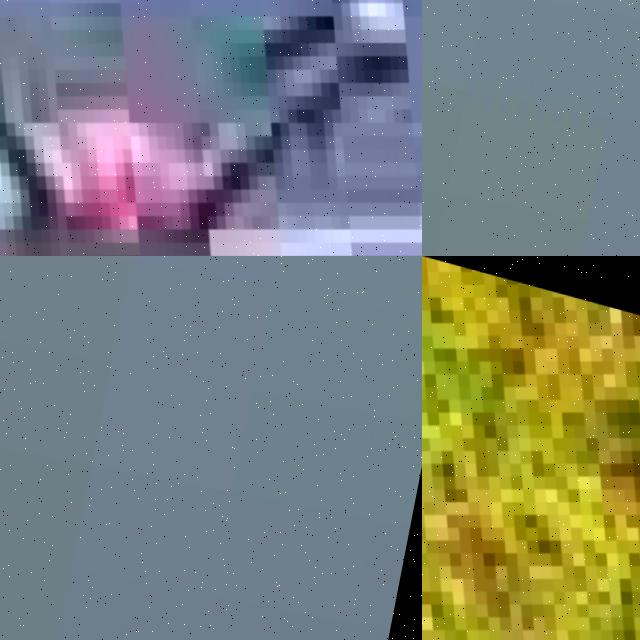0: (0, 0, 422, 256)
drone: (422, 256, 640, 640)
